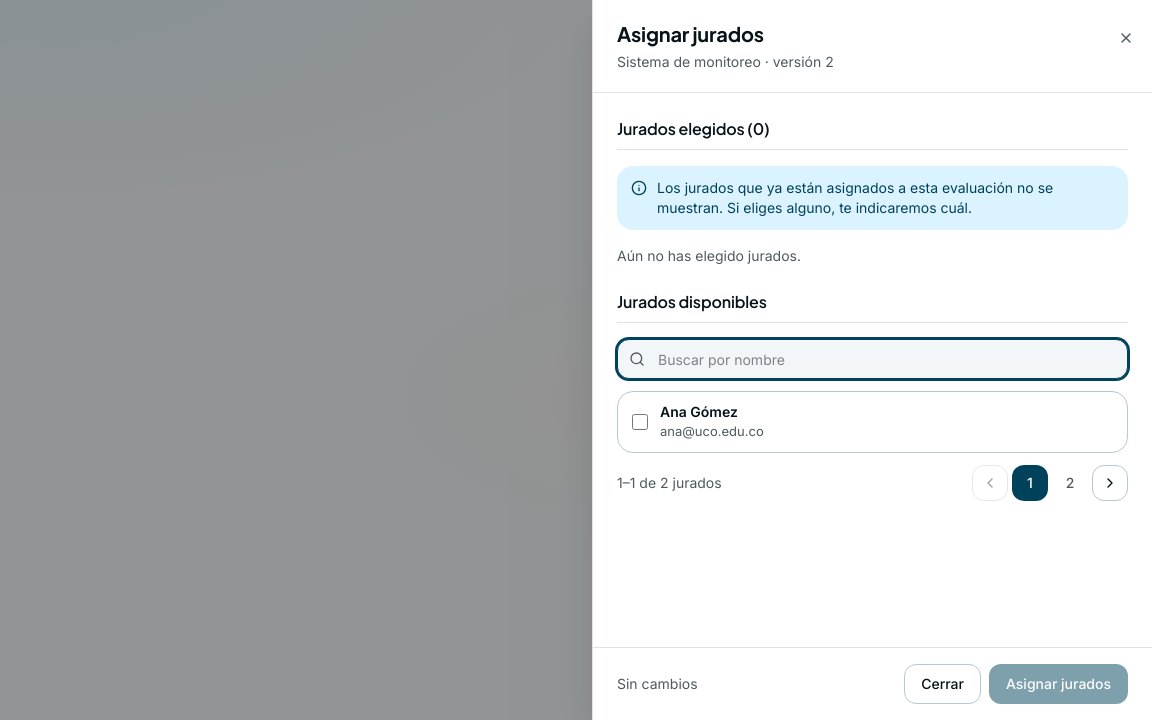
AsignarJuradosEvaluacionPanel › conserva la selección al cambiar de página y permite quitar un elegido
The image size is (1152, 720).
Click the checkbox labelled "Ana Gómez": (640, 422) 632,414 -> 648,430
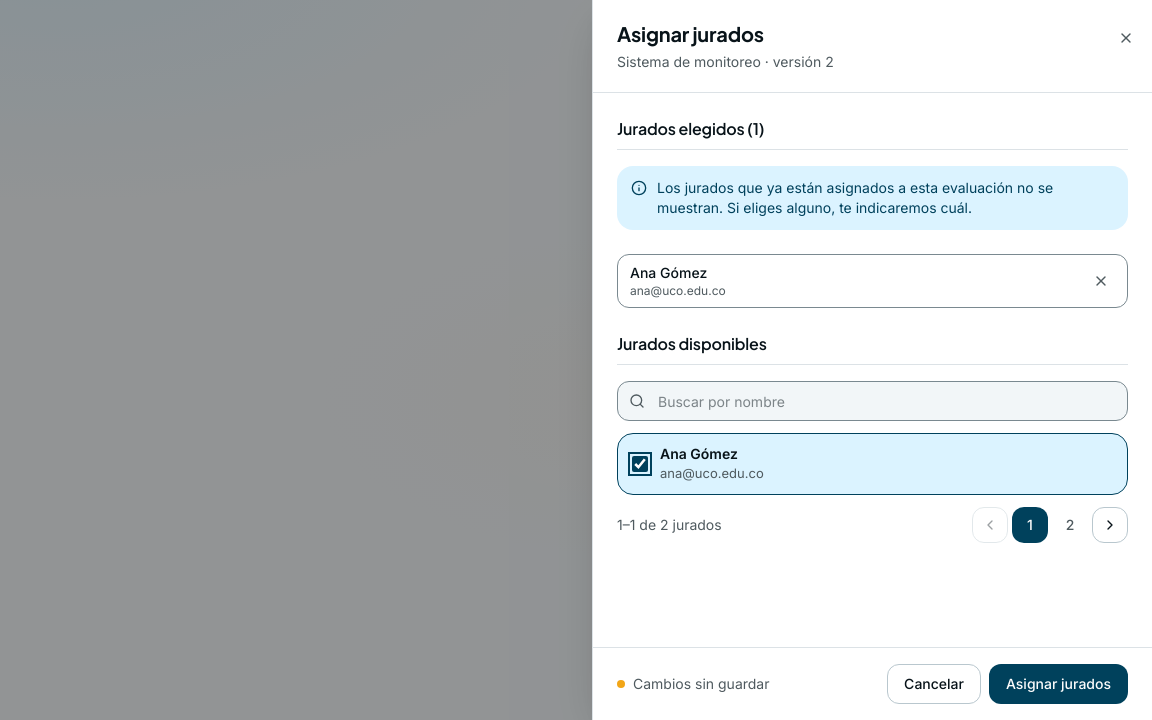
Click the button named "Página siguiente": (1110, 524) 1092,506 -> 1128,542
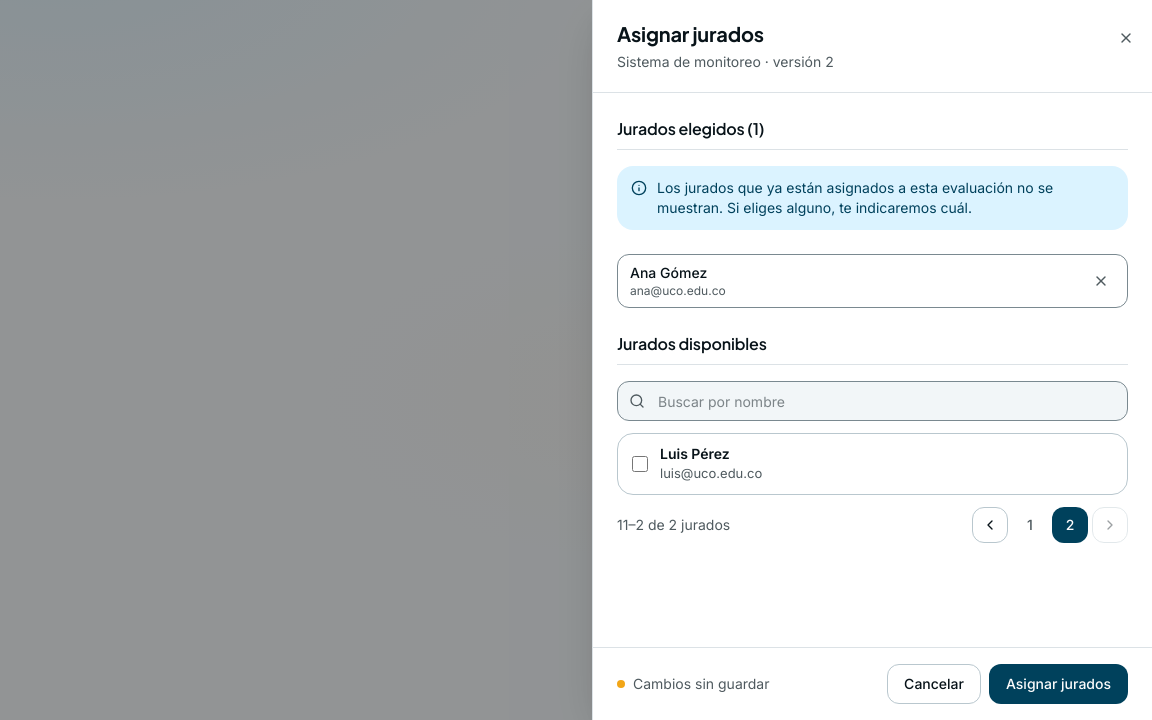
Click the checkbox labelled "Luis Pérez": (640, 464) 632,456 -> 648,472
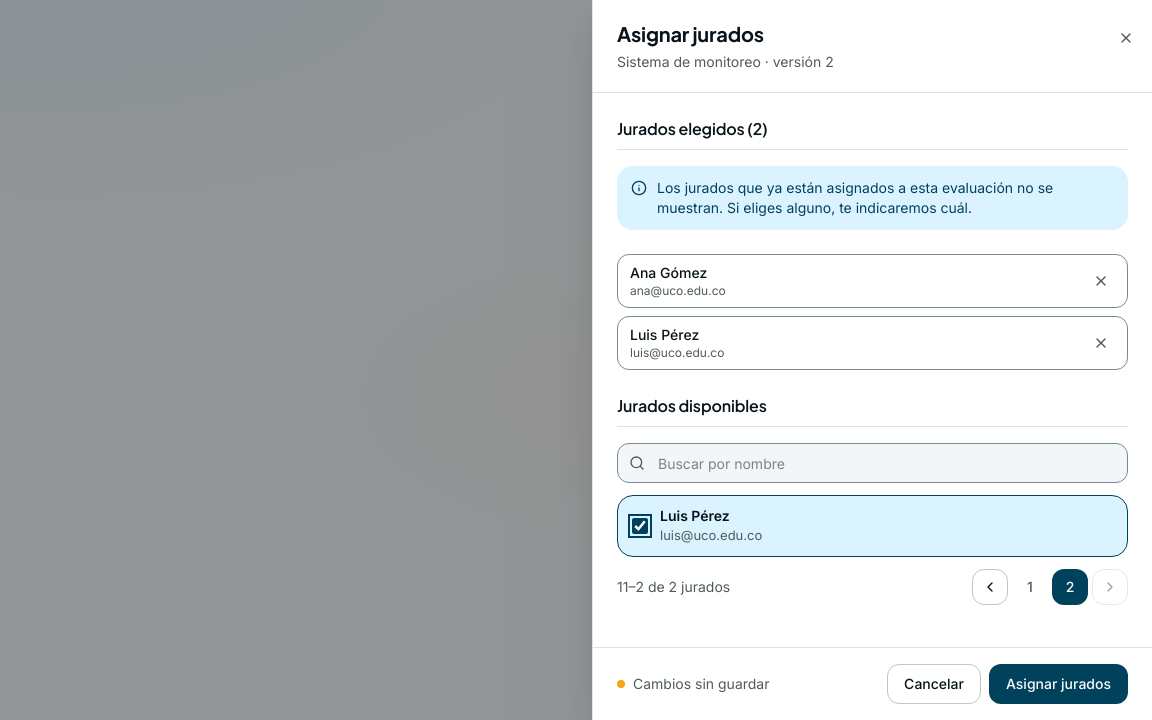
Result: the button named "Quitar a Ana Gómez" is shown
Result: the heading "Jurados elegidos (2)" is shown at 617,118 -> 768,139
Click the button named "Quitar a Ana Gómez": (1101, 281) 1083,263 -> 1119,299
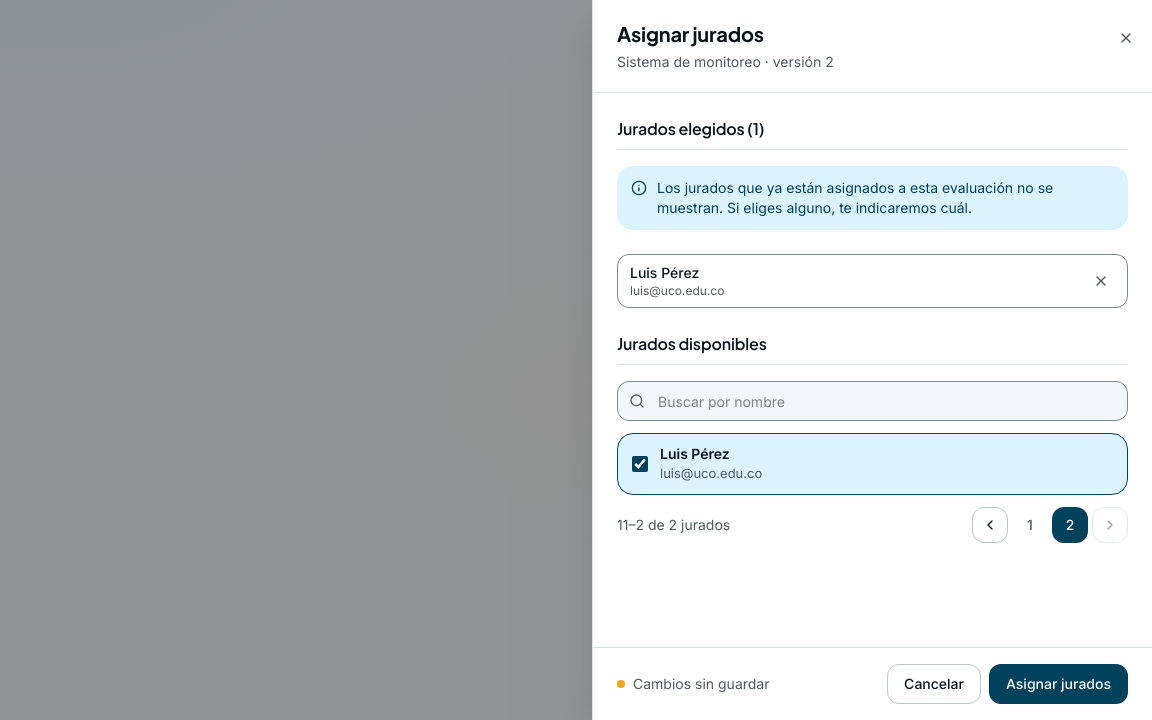
Result: the heading "Jurados elegidos (1)" is shown at 617,118 -> 764,139
